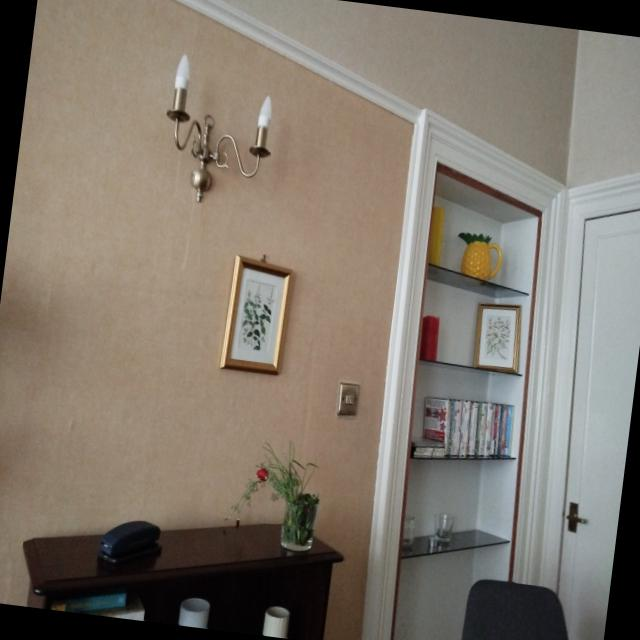book: (409, 390, 519, 462), (44, 587, 145, 620)
bookshelf: (361, 110, 563, 640)
cabinet: (23, 525, 344, 640)
chair: (460, 580, 569, 640)
lamp: (167, 54, 272, 203)
